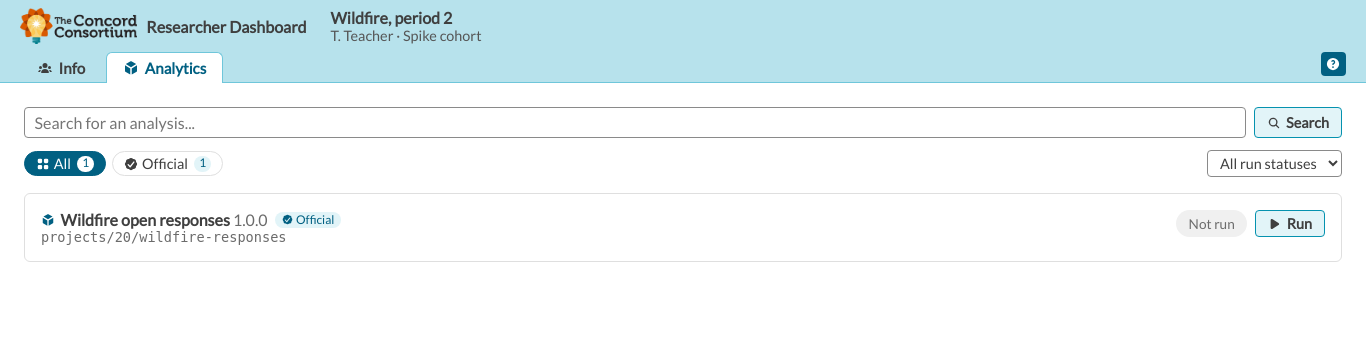
Test: running a package › says the portal could not be reached when its refusal carries no message
expect the heading "Wildfire, period 2" is shown: met, box [331, 8, 452, 27]
expect the link "Wildfire open responses" is shown: met, box [41, 210, 230, 229]
Click the button "Run" at (1290, 224), box [1255, 210, 1325, 237]
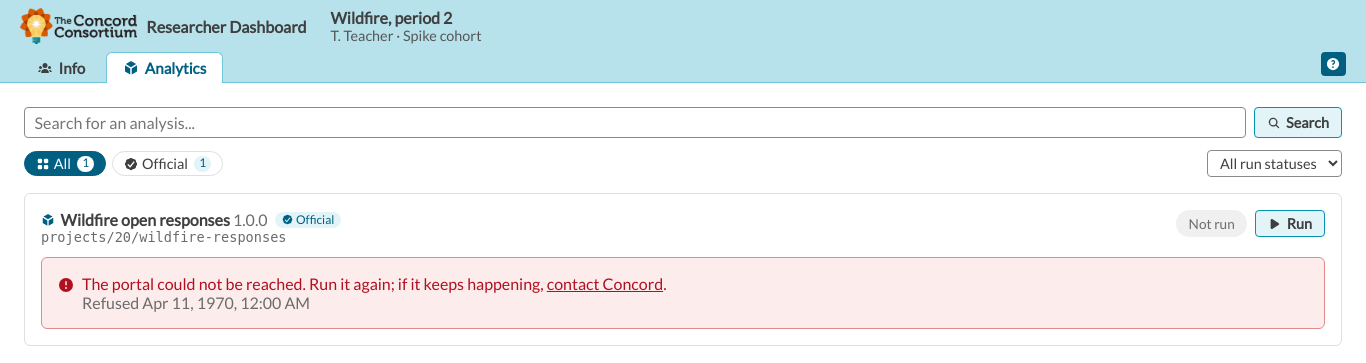
expect the text "The portal could not be reached." is shown: met, box [82, 274, 306, 293]
